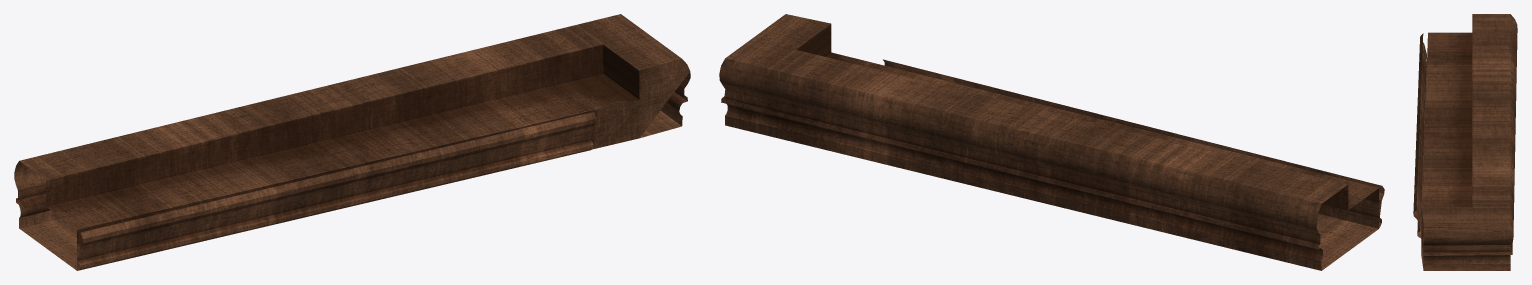
Rendered from Mod_Rambarde_Moulure_A_Low.fbx.
3 views of the same model, side by side, from view 1: azimuth 30°, elevation 25°; view 2: azimuth 150°, elevation 25°; view 3: azimuth 270°, elevation 25° (orthographic). The views are drawn at different scales.
Visible parts, largest first — view 1: Mod_Rambarde_Moulure_A_low; view 2: Mod_Rambarde_Moulure_A_low; view 3: Mod_Rambarde_Moulure_A_low.
Part boxes in pixels (x1=…): Mod_Rambarde_Moulure_A_low: x1=14, y1=14, x2=690, y2=270; Mod_Rambarde_Moulure_A_low: x1=719, y1=14, x2=1384, y2=270; Mod_Rambarde_Moulure_A_low: x1=1413, y1=14, x2=1517, y2=270.
Size of the model in its own units: 246 by 26.02 by 51.02.
1 material, 1 textured.
